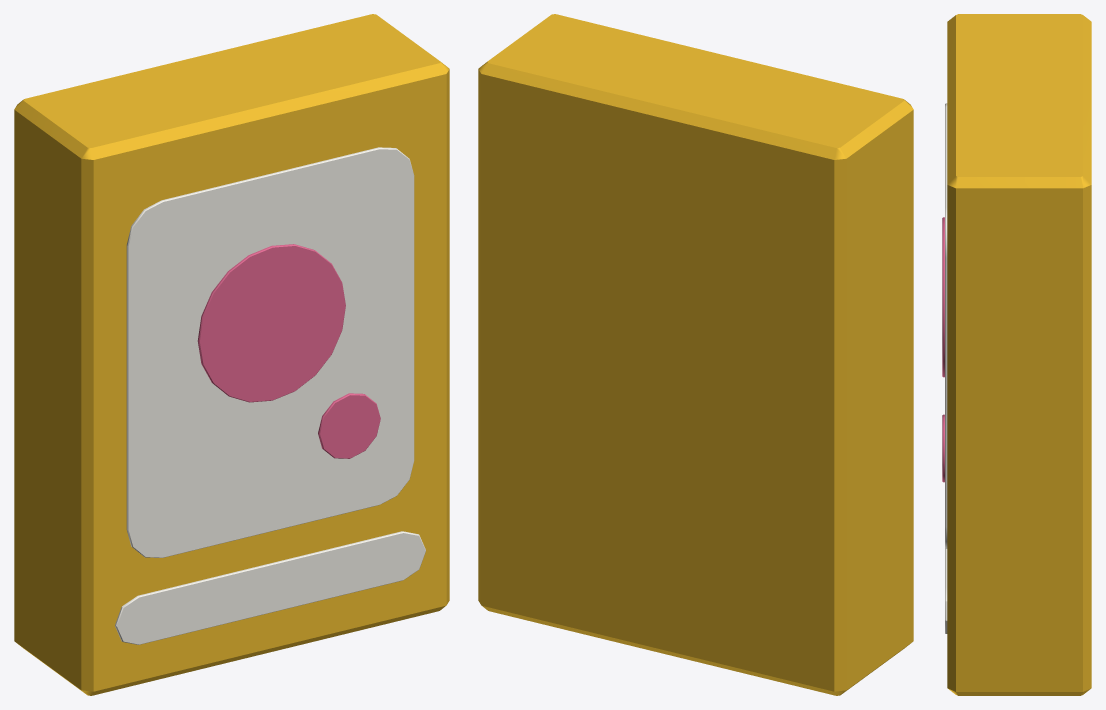
File: Product_BoxTall.fbx
The picture shows the model from 3 angles, left to right: view 1: azimuth 30°, elevation 25°; view 2: azimuth 150°, elevation 25°; view 3: azimuth 270°, elevation 25°; orthographic projection. The views are drawn at different scales.
Parts seen in each view (by area): view 1: Product_BoxTall_Body, Product_BoxTall_Panel, Product_BoxTall_Logo; view 2: Product_BoxTall_Body; view 3: Product_BoxTall_Body, Product_BoxTall_Panel, Product_BoxTall_Logo.
Boxes of the visible parts, x1,y1,x2,y2 form: Product_BoxTall_Body: (14,14,449,695); Product_BoxTall_Panel: (115,147,425,644); Product_BoxTall_Logo: (197,244,380,458); Product_BoxTall_Body: (478,14,913,695); Product_BoxTall_Body: (947,14,1091,695); Product_BoxTall_Panel: (945,103,947,633); Product_BoxTall_Logo: (942,217,944,482).
Size of the model in its own units: 19 by 27 by 7.04.
